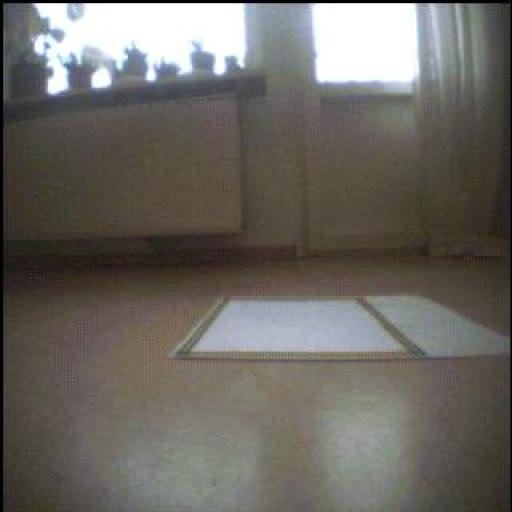Pad: (171, 291, 512, 363)
